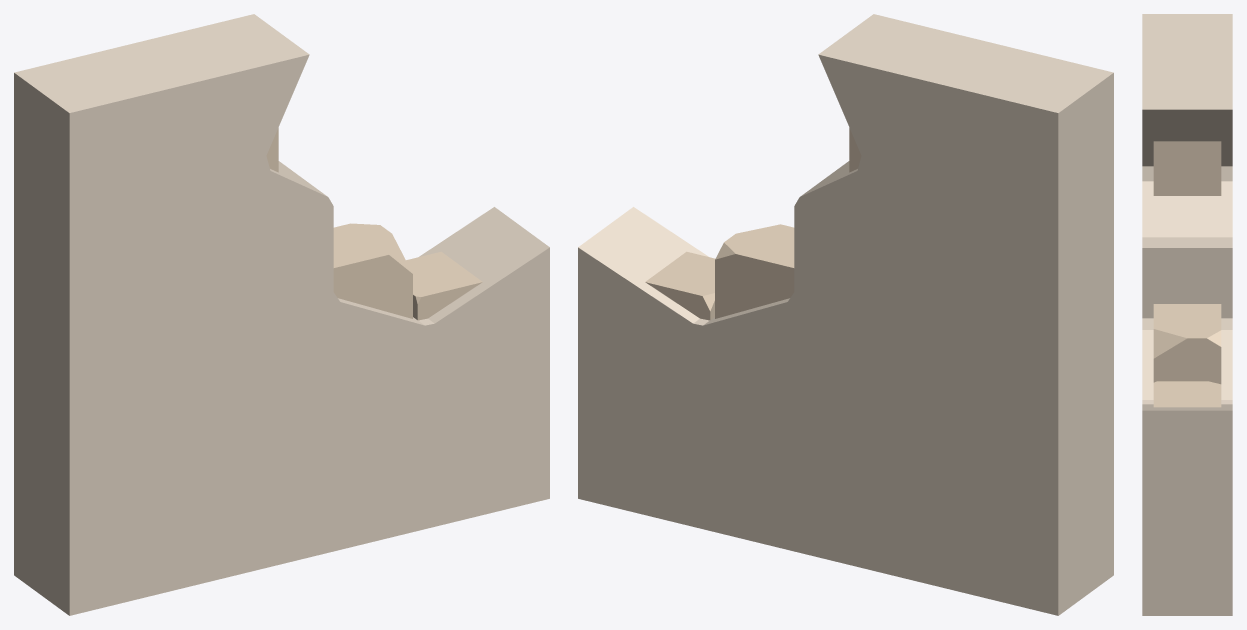
File: temple_Wall_Ruined_Corner_Inner_2.glb
The picture shows the model from 3 angles, left to right: view 1: azimuth 30°, elevation 25°; view 2: azimuth 150°, elevation 25°; view 3: azimuth 270°, elevation 25°; orthographic projection. The views are drawn at different scales.
Visible parts, largest first — view 1: object1; view 2: object1; view 3: object1.
Part boxes in pixels (x1,y1,x2,y2): object1: (14,14,549,615); object1: (578,14,1113,615); object1: (1142,14,1232,615).
Bounding box in the file's own units: 1 × 1 × 0.2.
